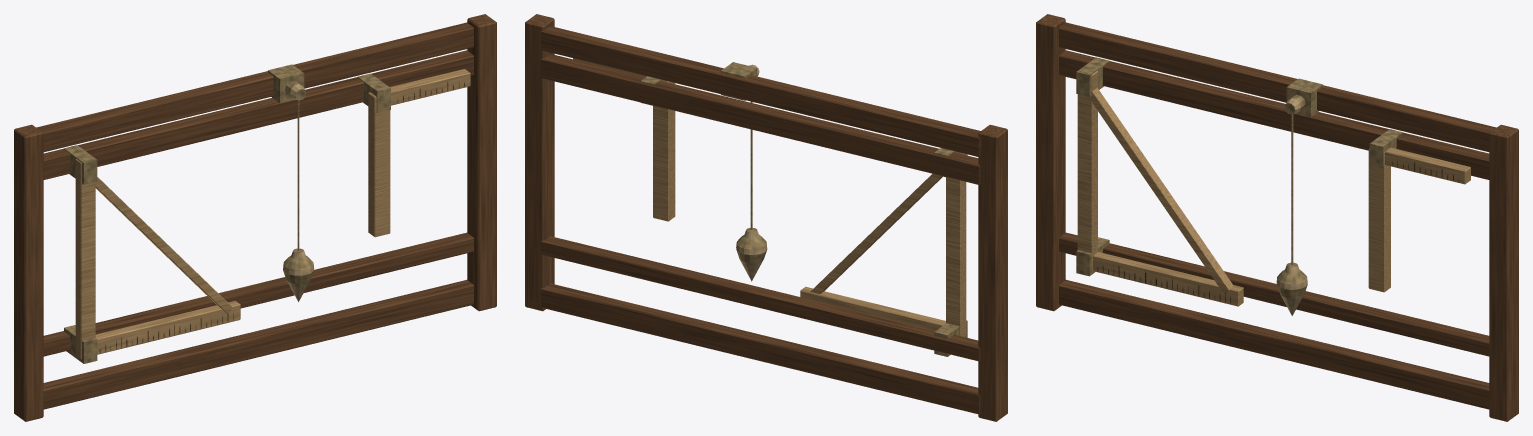
Rendered from PlumbSquareBoard_LOD0.fbx.
3 renders of one model, left to right at view 1: azimuth 30°, elevation 25°; view 2: azimuth 150°, elevation 25°; view 3: azimuth 330°, elevation 25°, orthographic.
Visible parts, largest first — view 1: PlumbSquareBoard; view 2: PlumbSquareBoard; view 3: PlumbSquareBoard.
Boxes of the visible parts, left/top/right/bottom form: PlumbSquareBoard: left=14, top=14, right=496, bottom=421; PlumbSquareBoard: left=525, top=14, right=1007, bottom=421; PlumbSquareBoard: left=1036, top=14, right=1518, bottom=421.
Bounding box in the file's own units: 2.04 × 1.18 × 0.212.
Materials: 1 (1 with a texture image).
